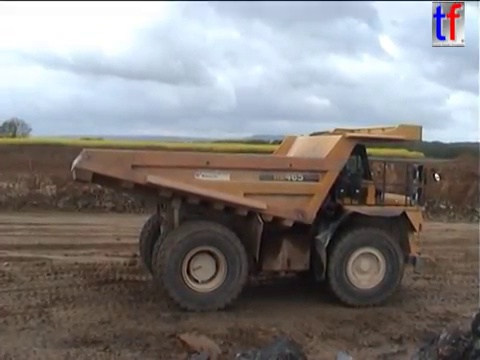truck: (68, 121, 442, 315)
